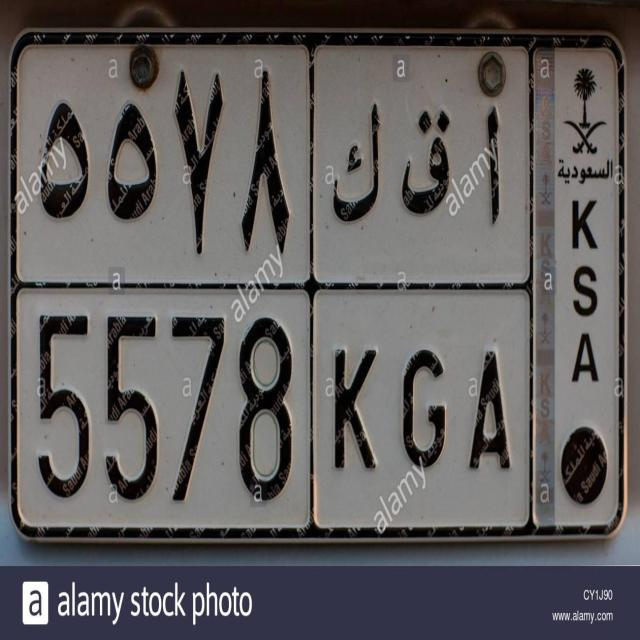license_plate: (10, 28, 629, 547)
